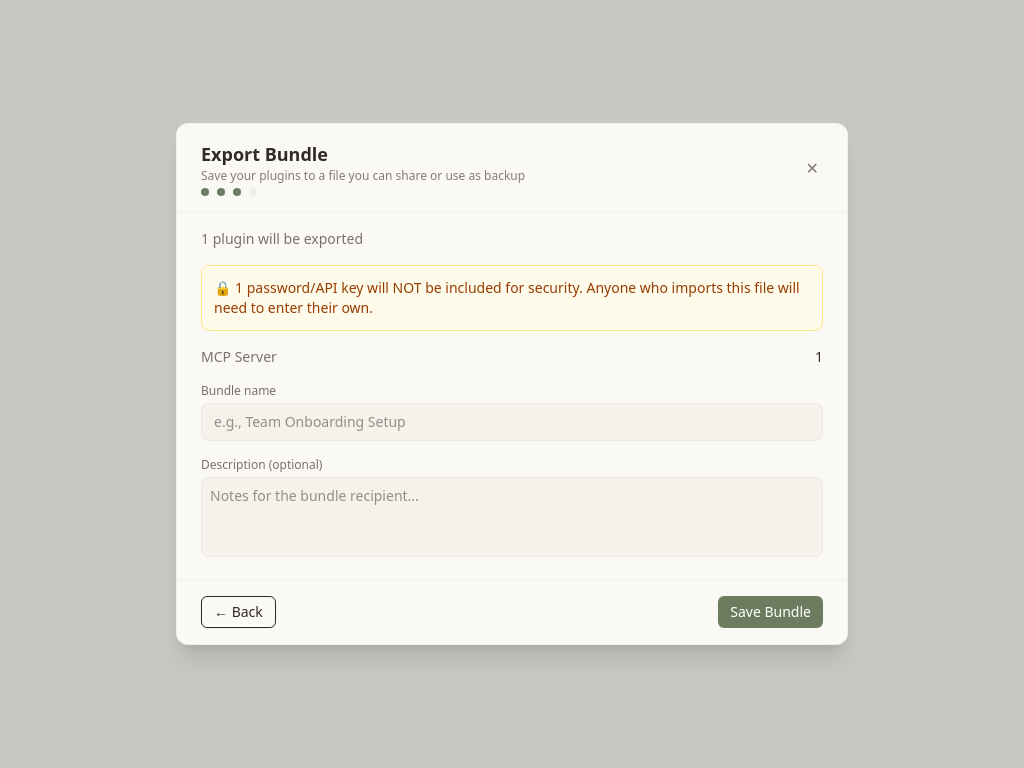
Test case: ExportWizard — buildAndSave cancellation › shows error message when export fails
The image size is (1024, 768).
Click the button "Save Bundle" at (771, 612), box [718,596,823,628]
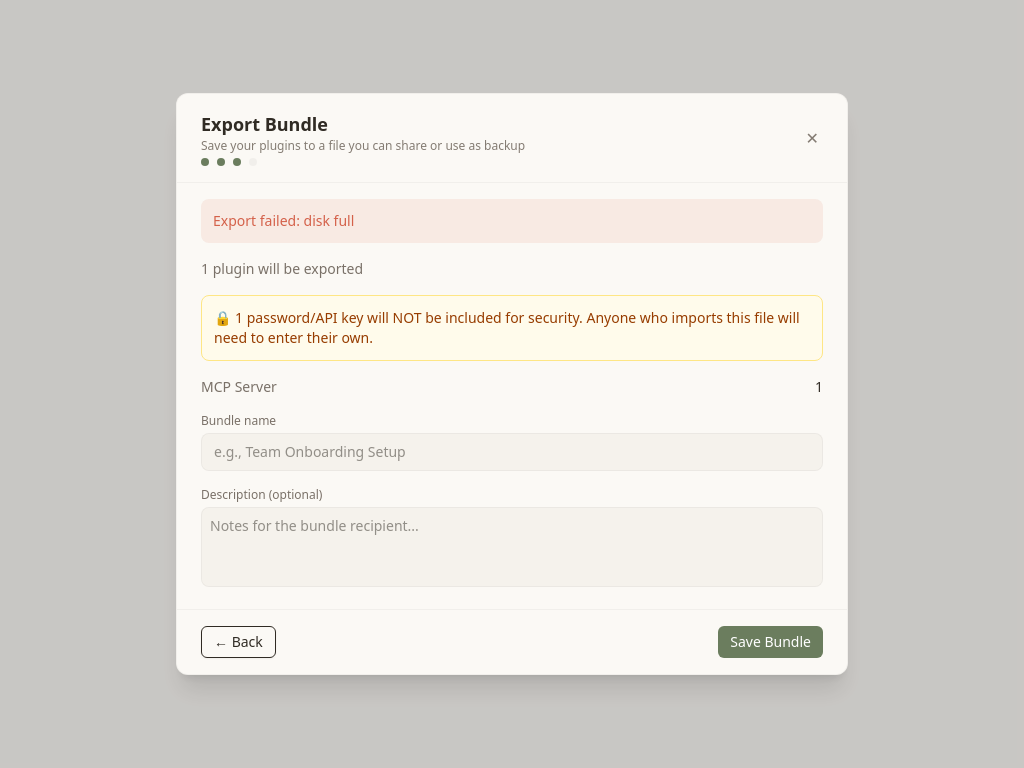
Check: the text "Export failed: disk full" is shown, box [201,199,823,243]
